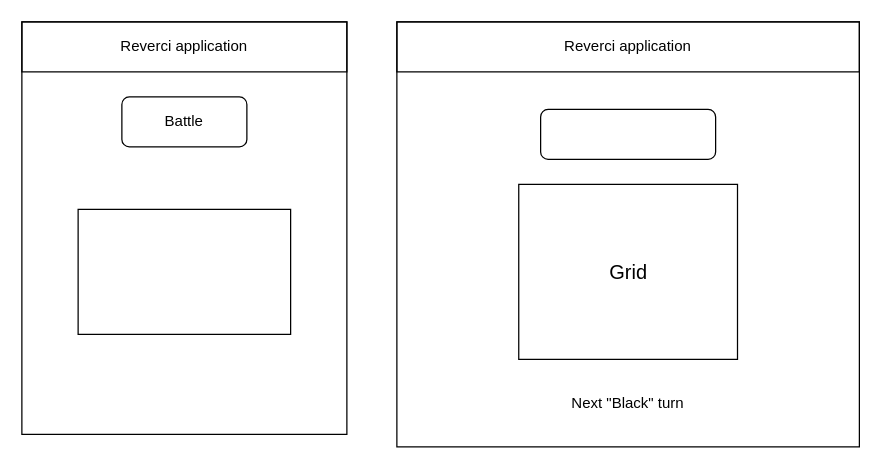
The diagram is 881 pixels wide and 469 high, and some of its shapes have lost their labels. The centre of each missing label's shape, as x and y in pixels:
Skip the "white" turn: the point at 627,133
The past results: the point at 184,271
